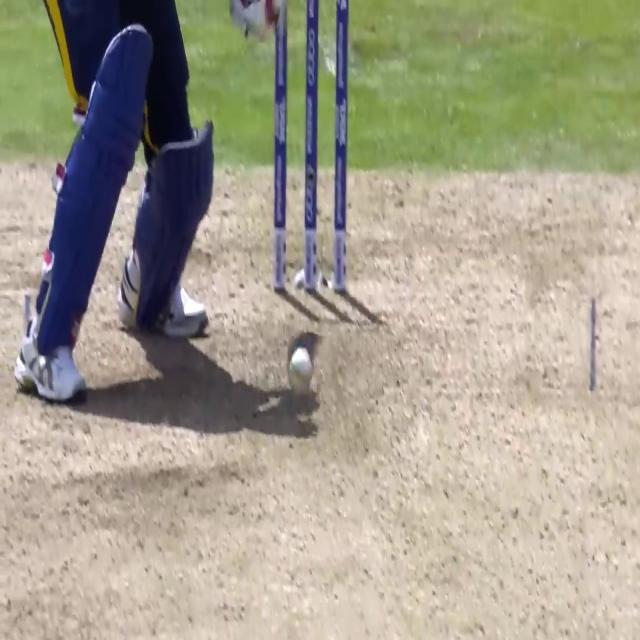ball: (286, 348, 314, 392)
